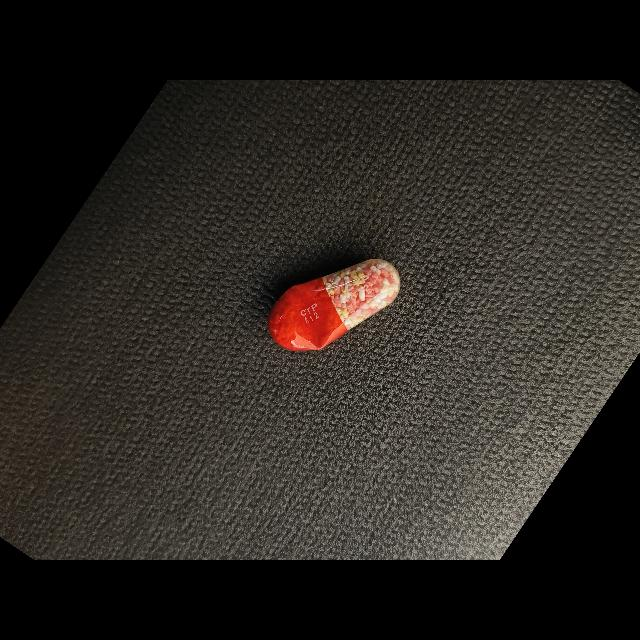Defective Capsule: (268, 259, 400, 351)
